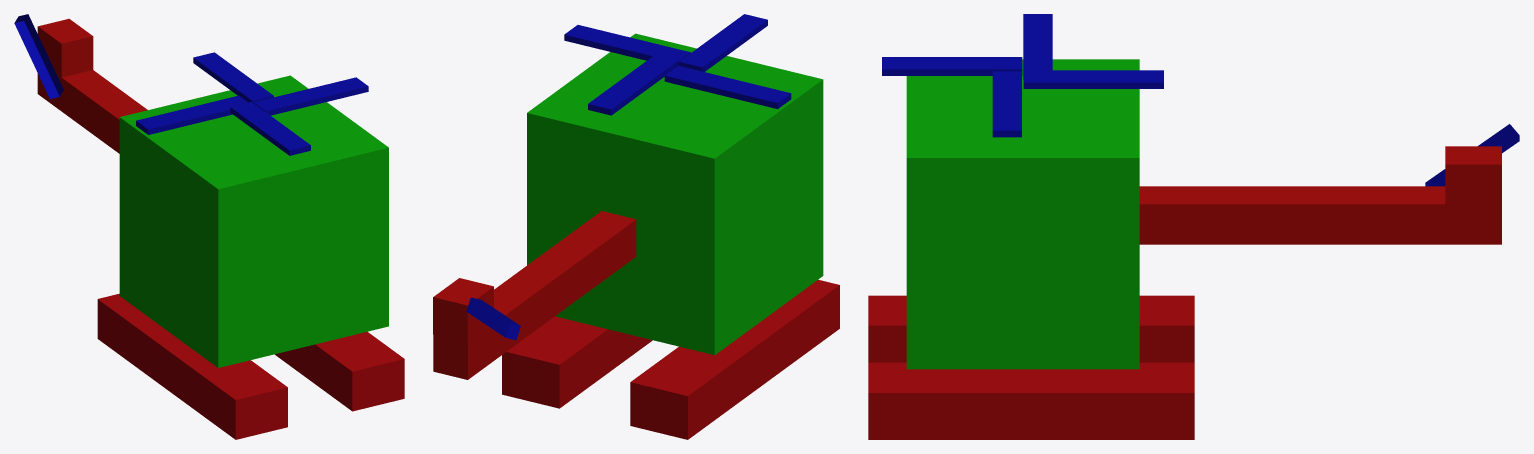
The model's file is Helicopter.obj.
3 renders of one model, left to right at view 1: azimuth 30°, elevation 25°; view 2: azimuth 150°, elevation 25°; view 3: azimuth 270°, elevation 25°, orthographic. The views are drawn at different scales.
Parts seen in each view (by area): view 1: Cube.007_Cube.010; view 2: Cube.007_Cube.010; view 3: Cube.007_Cube.010.
Boxes of the visible parts, bbox=[...] form: Cube.007_Cube.010: bbox=[14, 14, 404, 439]; Cube.007_Cube.010: bbox=[433, 14, 839, 439]; Cube.007_Cube.010: bbox=[868, 14, 1519, 439].
Bounding box in the file's own units: 1.16 × 1.45 × 2.68.
